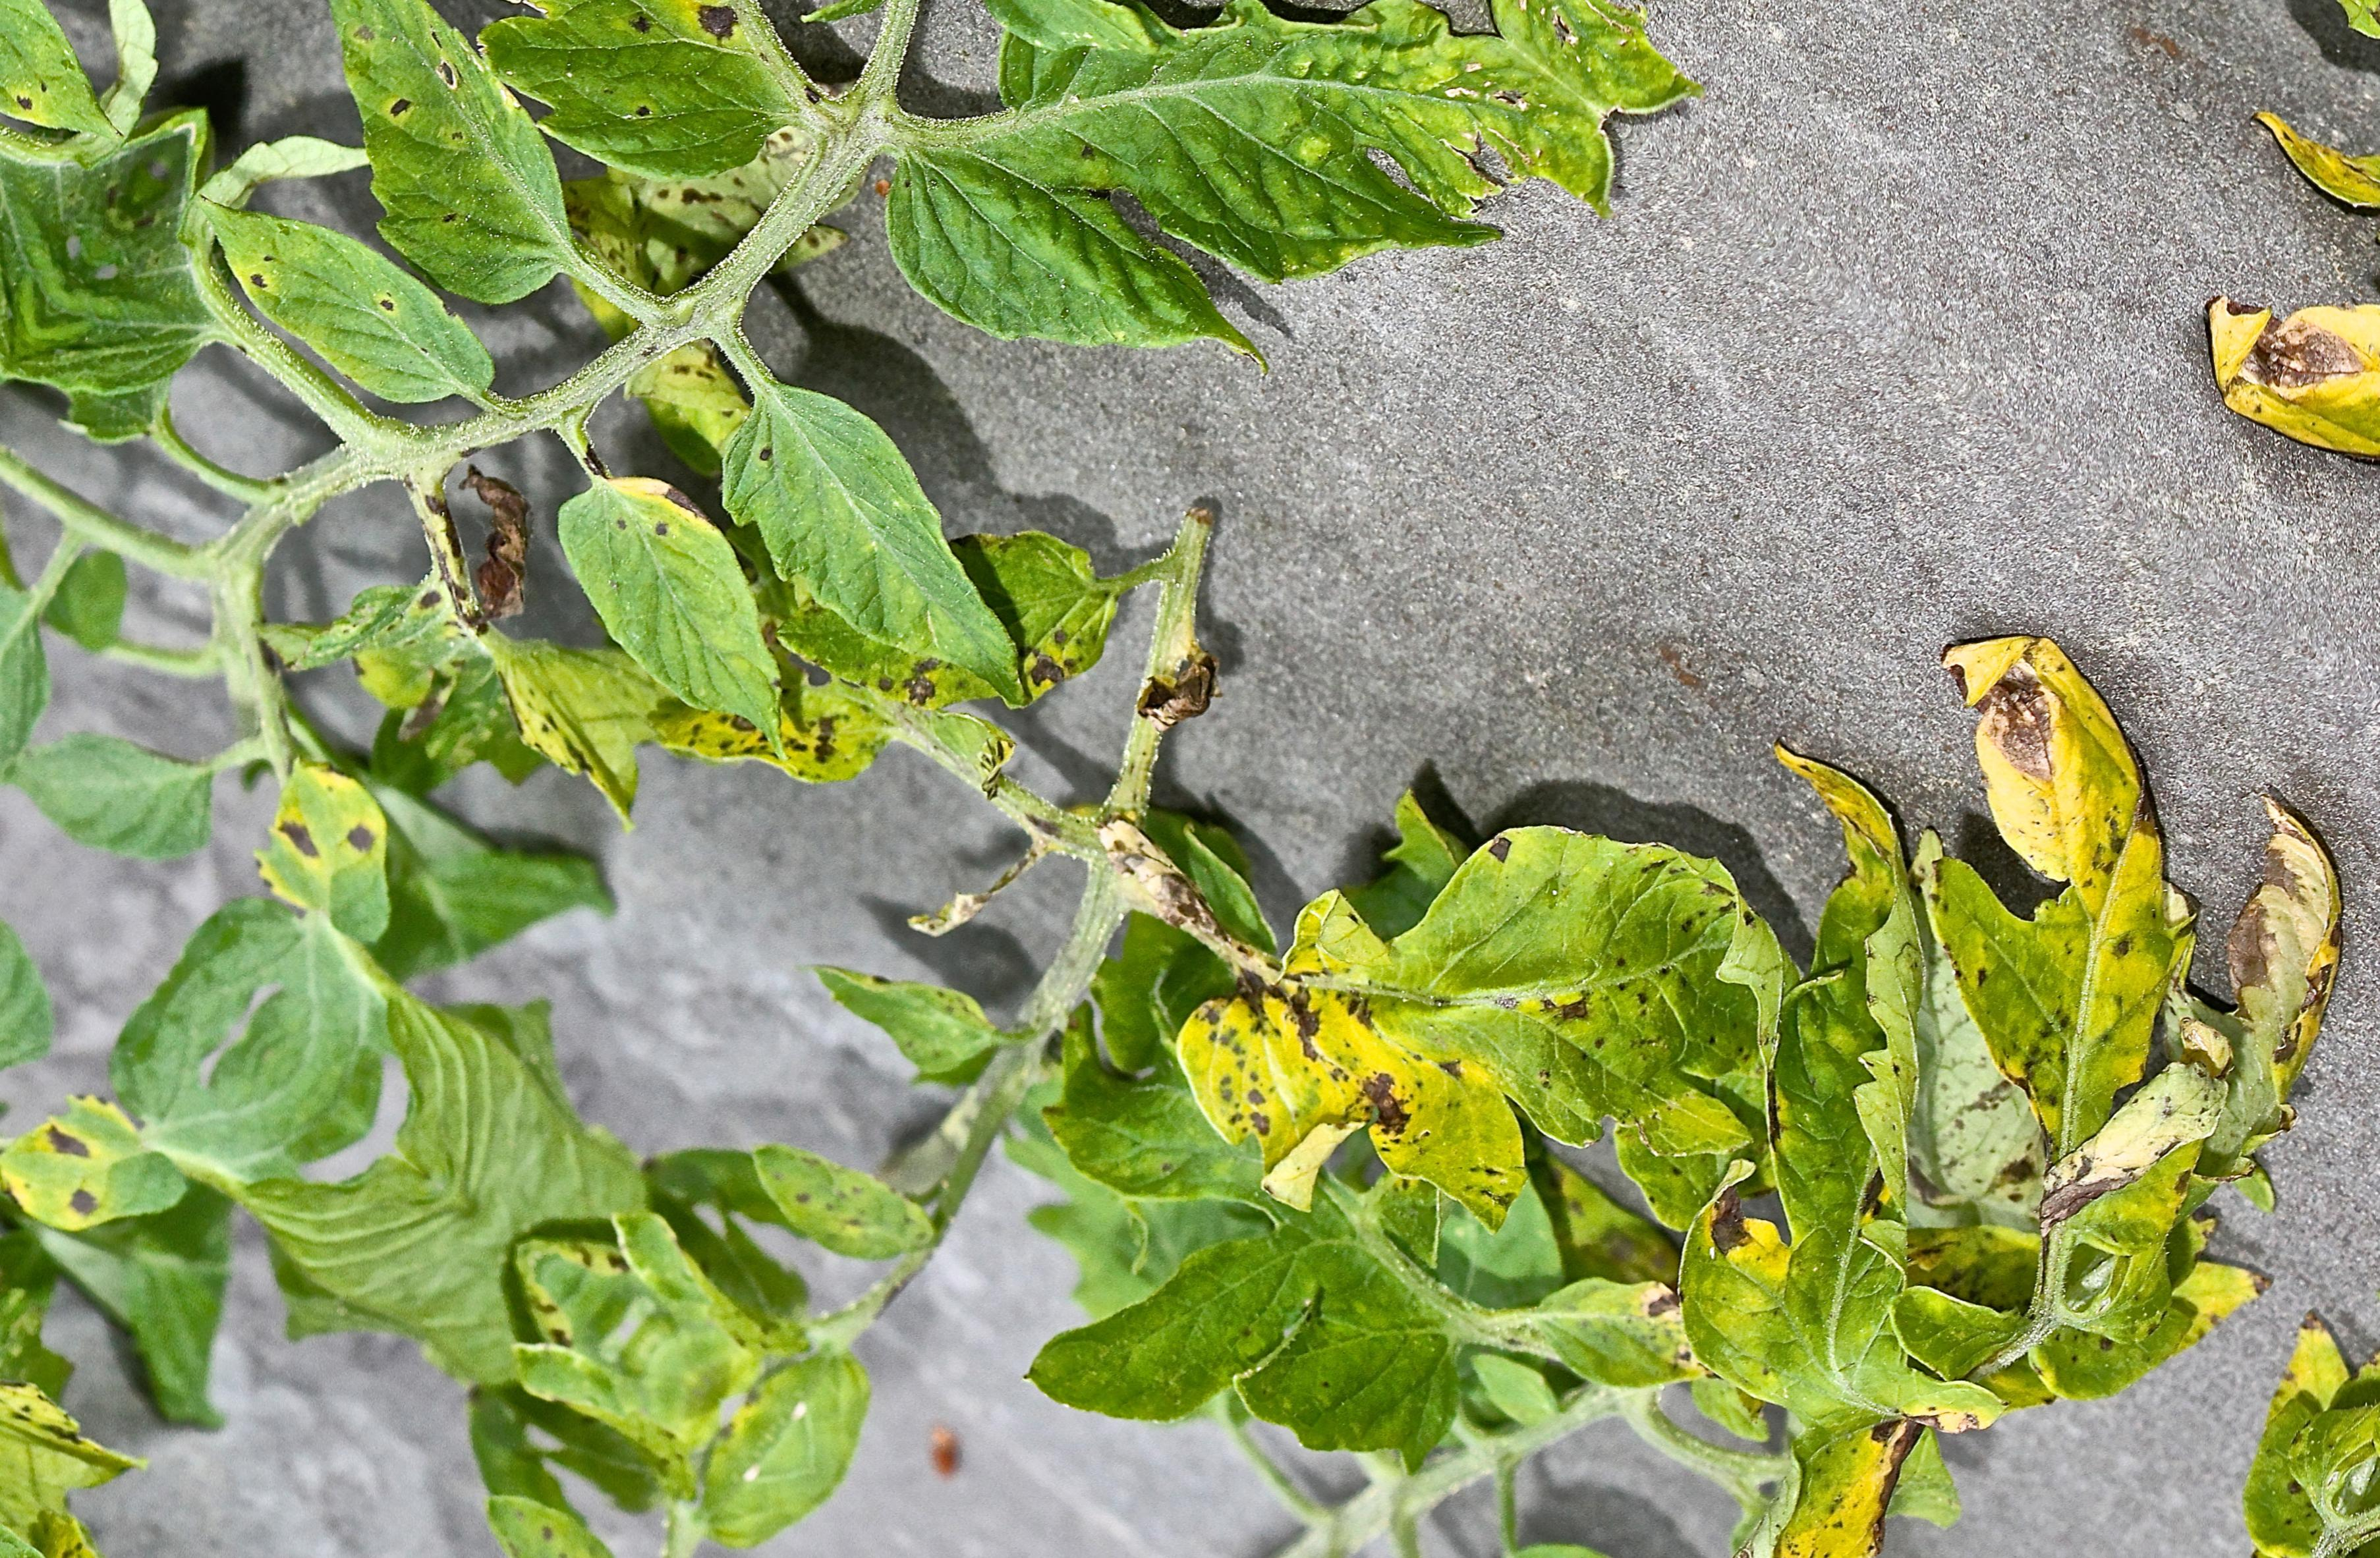Tomato Septoria leaf spot: (1113, 643, 1822, 1346), (831, 0, 1664, 584), (1692, 591, 2364, 1262), (327, 0, 972, 249)
